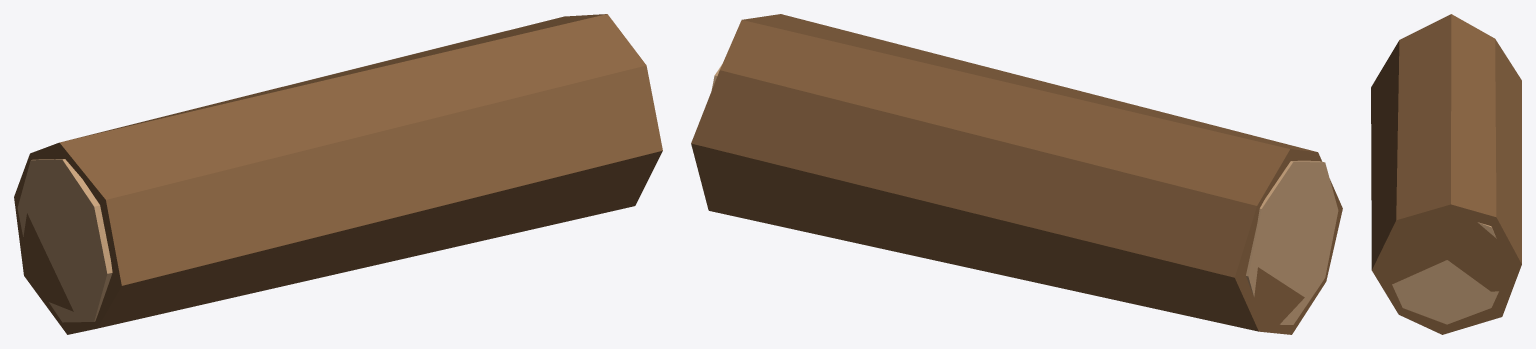
Rendered from log_seat.glb.
3 renders of one model, left to right at view 1: azimuth 30°, elevation 25°; view 2: azimuth 150°, elevation 25°; view 3: azimuth 270°, elevation 25°, orthographic. The views are drawn at different scales.
Parts seen in each view (by area): view 1: log_seat; view 2: log_seat; view 3: log_seat.
Part boxes in pixels (x1,y1,x2,y2): log_seat: [14, 14, 662, 334]; log_seat: [691, 14, 1342, 334]; log_seat: [1371, 14, 1521, 334].
Bounding box in the file's own units: 0.9188 × 0.3095 × 0.3123.
